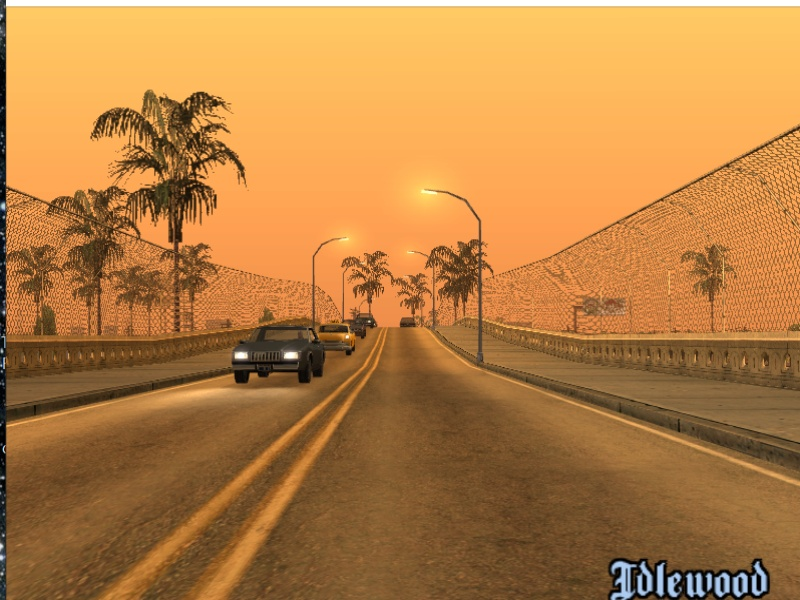pole: (471, 206, 489, 374), (309, 253, 322, 325)
vehicle: (230, 323, 326, 387), (319, 321, 355, 352), (349, 318, 365, 337), (400, 314, 414, 331)
